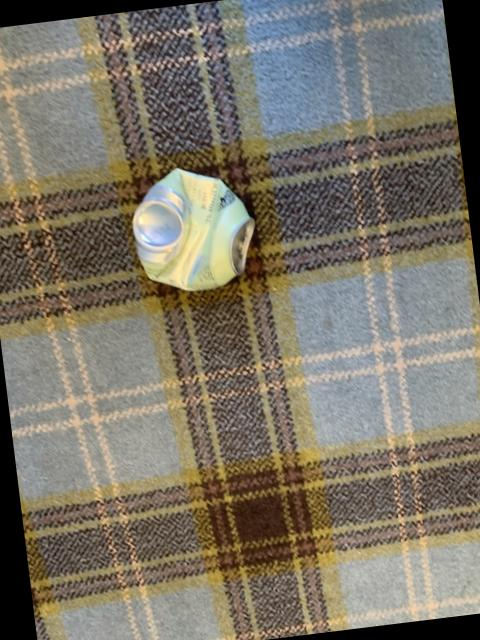metal: (131, 167, 252, 289)
